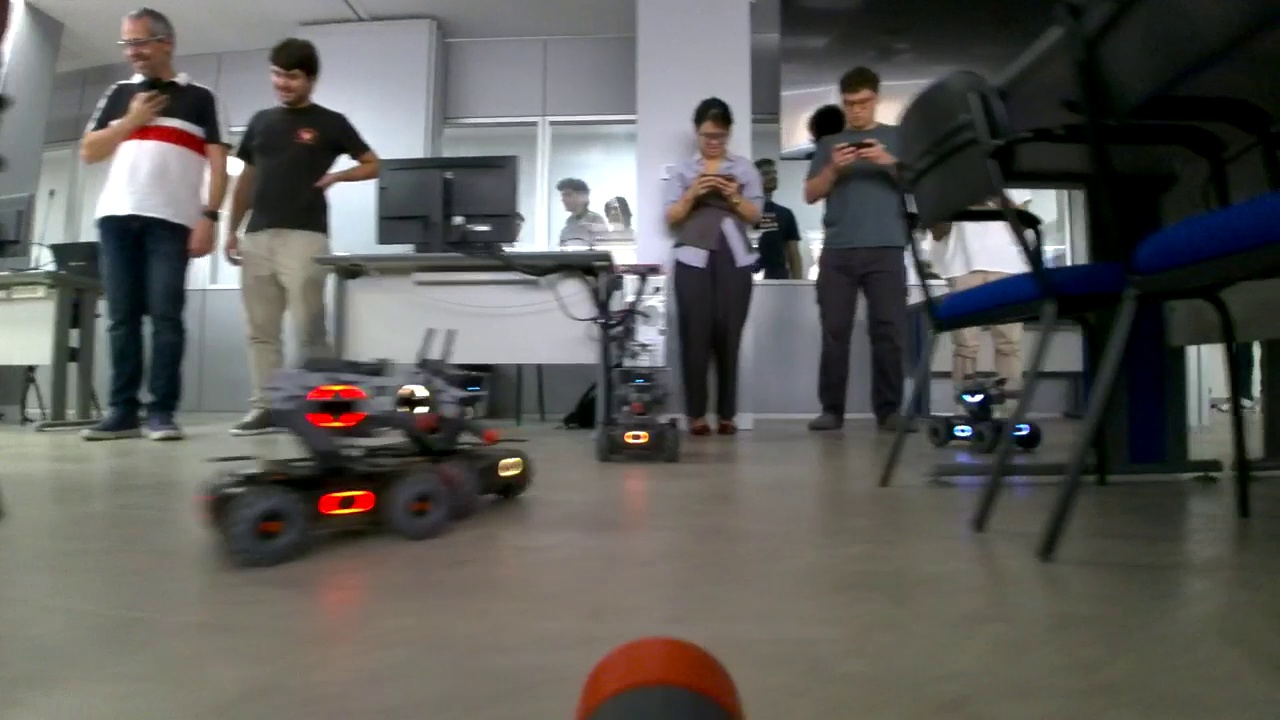robot: (212, 309, 446, 538), (372, 328, 529, 501), (924, 357, 1040, 452), (597, 356, 678, 462)
